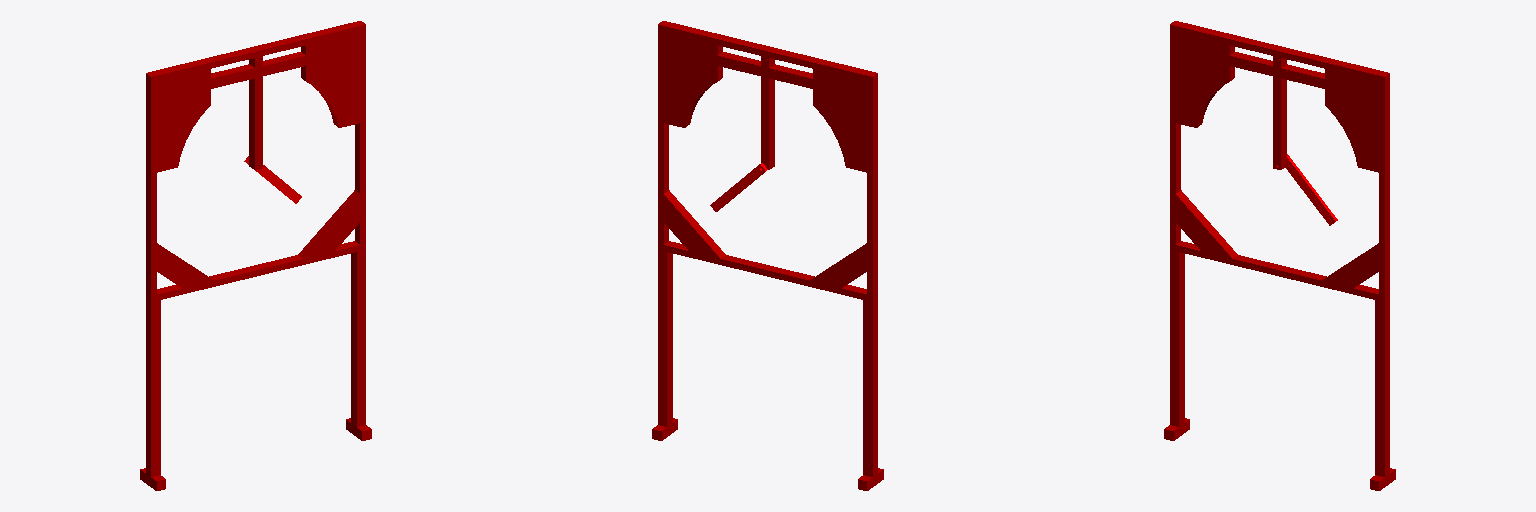
robot.urdf — gate_system:
<?xml version="1.0" encoding="utf-8"?>

<robot
  name="gate_system">
  <link name="world"/>
  <link
    name="base_link">
    <inertial>
      <origin
        xyz="1.0311 -2.5557 2.3905"
        rpy="0 0 0" />
      <mass
        value="1100.87" />
      <inertia
        ixx="0.037259"
        ixy="2.1212E-19"
        ixz="8.3317E-20"
        iyy="0.0024207"
        iyz="-0.0078999"
        izz="0.035026" />
    </inertial>
    <visual>
      <origin
        xyz="0 0 0"
        rpy="0 0 0" />
      <geometry>
        <mesh
          filename="package://gate_system/meshes/base_link.STL" />
      </geometry>
      <material
        name="red">
        <color
          rgba="0.75 0.0 0.0 1" />
      </material>
    </visual>
    <collision>
      <origin
        xyz="0 0 0"
        rpy="0 0 0" />
      <geometry>
        <mesh
          filename="package://gate_system/meshes/base_link.STL" />
      </geometry>
    </collision>
  </link>
  <link
    name="rotating_link">
    <inertial>
      <origin
        xyz="0 0.27188 0.062404"
        rpy="0 0 0" />
      <mass
        value="0.1" />
      <inertia
        ixx="0.037259"
        ixy="2.1212E-19"
        ixz="8.3317E-20"
        iyy="0.0024207"
        iyz="-0.0078999"
        izz="0.035026" />
    </inertial>
    <visual>
      <origin
        xyz="0 0 0"
        rpy="0 0 0" />
      <geometry>
        <mesh
          filename="package://gate_system/meshes/rotating_link.STL" />
      </geometry>
      <material name="red">
        <color
          rgba="1 0 0 1" />
      </material>
    </visual>
    <collision>
      <origin
        xyz="0 0 0"
        rpy="0 0 0" />
      <geometry>
        <mesh
          filename="package://gate_system/meshes/rotating_link.STL" />
      </geometry>
    </collision>
  </link>
  <joint
    name="rotating_joint"
    type="continuous">
    <origin
      xyz="1.0311 -2.4707 2.523"
      rpy="1.5708 0 1.5708" />
    <parent
      link="base_link" />
    <child
      link="rotating_link" />
    <axis
      xyz="-1 0 0" />
    <limit
      effort="0"
      velocity="0" />
  </joint>


  <joint name="fixed" type="fixed">
    <parent link="world"/>
    <child link="base_link"/>
    <origin xyz="0 0 0" rpy="0 0 0"/>
  </joint>

  <gazebo reference="base_link" type="fixed">
    <material>Gazebo/White</material>
    <mu1>500</mu1>
    <mu2>500</mu2>
    <selfCollide>False</selfCollide>
    <static>true</static>
  </gazebo>
  
  <gazebo reference="rotating_link">
    <material>Gazebo/Orange</material>
    <mu1>0.2</mu1>
    <mu2>0.2</mu2>
    <gravity>false</gravity>
    <selfCollide>false</selfCollide>
    <static>false</static>
  </gazebo>

</robot>

--- Facts derived from the render (not from the file) ---
3 views of the same robot in one strip: view 1: azimuth 30°, elevation 25°; view 2: azimuth 150°, elevation 25°; view 3: azimuth 330°, elevation 25° (orthographic).
Robot: gate_system — 3 links, 2 joints (1 continuous, 1 fixed); root link world; default pose: every joint at zero.
Visible links, largest first — view 1: base_link; view 2: base_link, rotating_link; view 3: base_link, rotating_link.
Link boxes in pixels (x1,y1,x2,y2): base_link: [140, 21, 371, 490]; base_link: [652, 21, 883, 490]; rotating_link: [710, 163, 767, 211]; base_link: [1164, 21, 1395, 490]; rotating_link: [1285, 154, 1337, 225].
Bounding box of the posed robot: 1.8 × 0.24 × 3.28 m (x, y, z).
2 mesh visuals loaded from 2 distinct referenced files (2 binary STL).